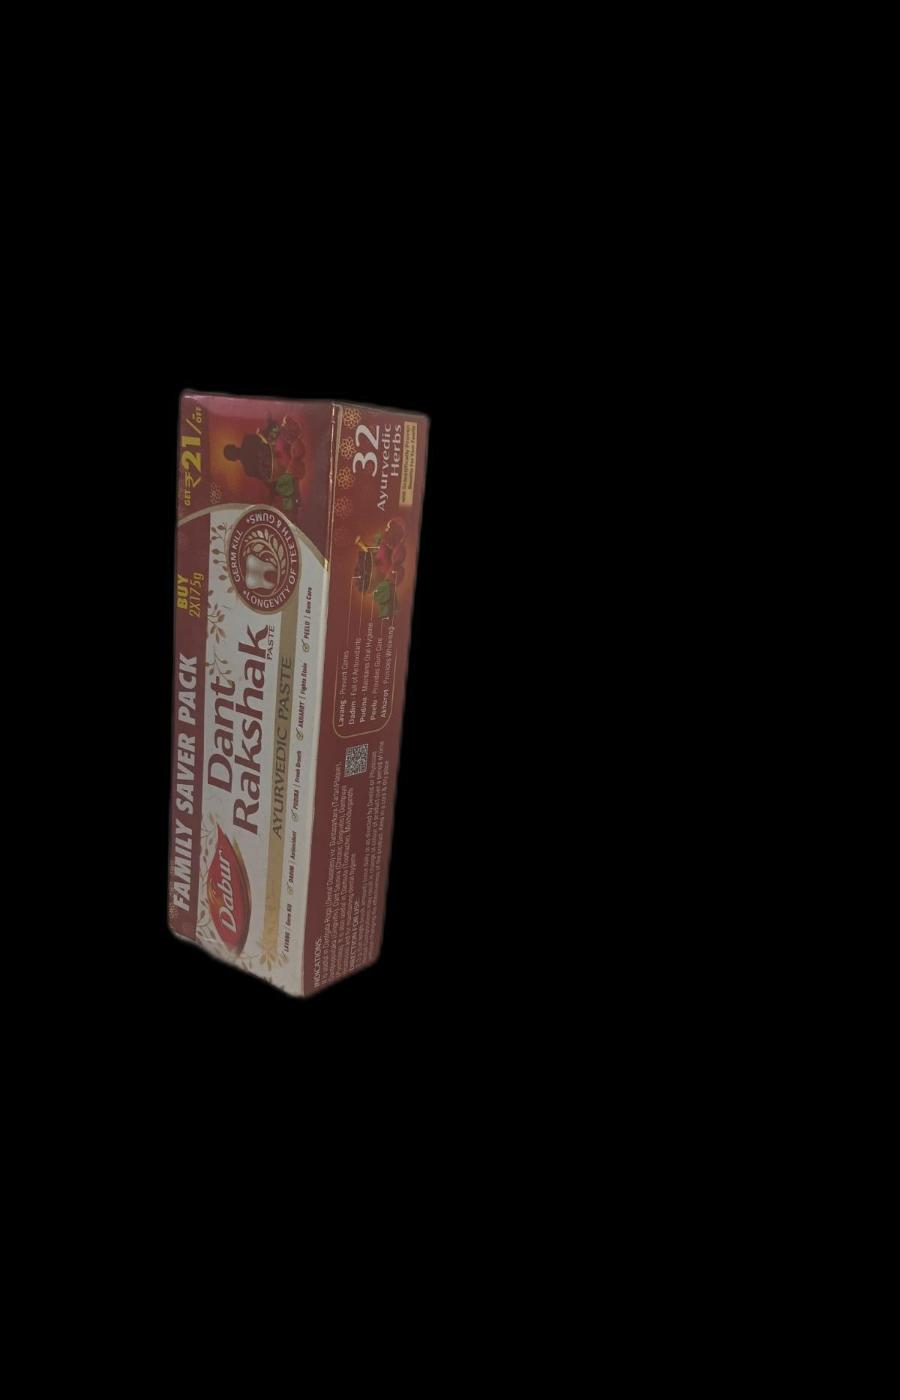Dabur Dant Rakshak Ayurvedic Paste 175 g -Pack of 2-: (165, 376, 433, 995)
